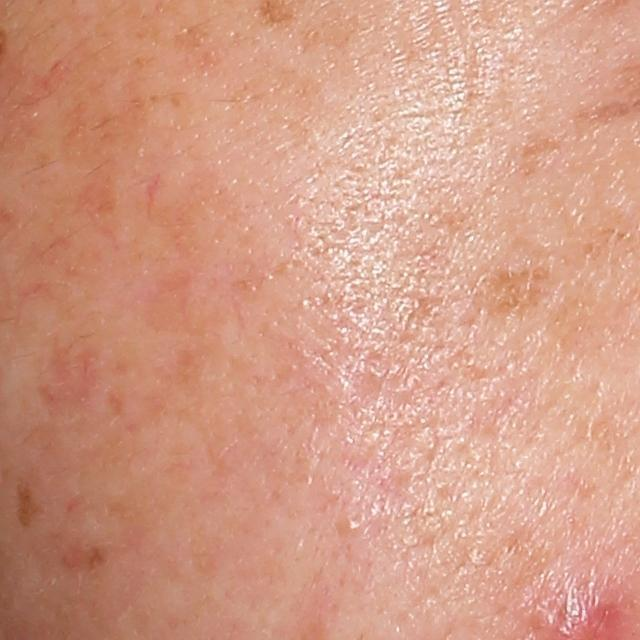comedo: (338, 520, 367, 541)
melasma: (475, 261, 559, 329), (95, 64, 159, 145), (12, 477, 53, 533)
